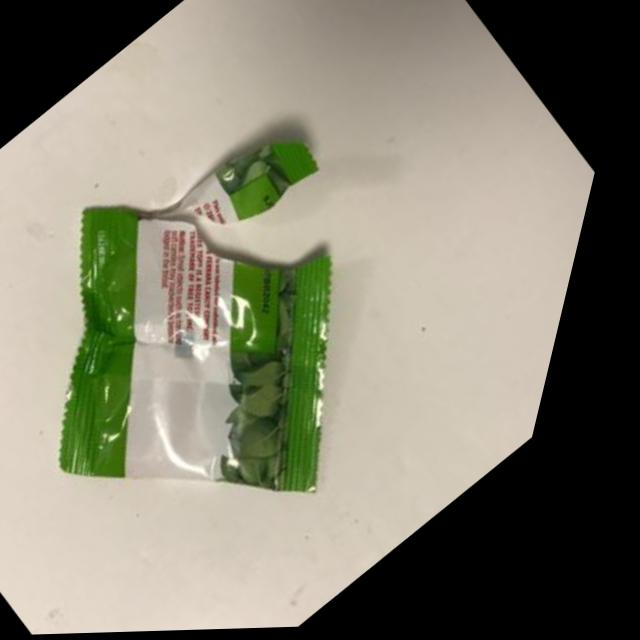trash: (0, 0, 624, 640)
